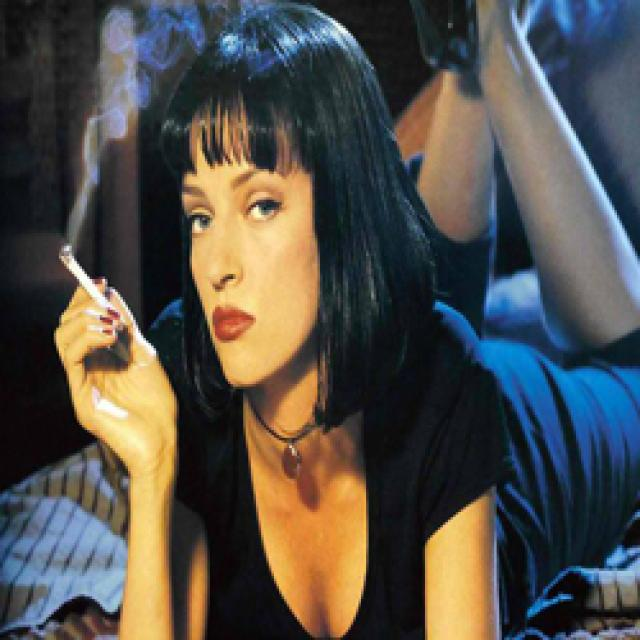Smooking: (56, 239, 138, 327)
